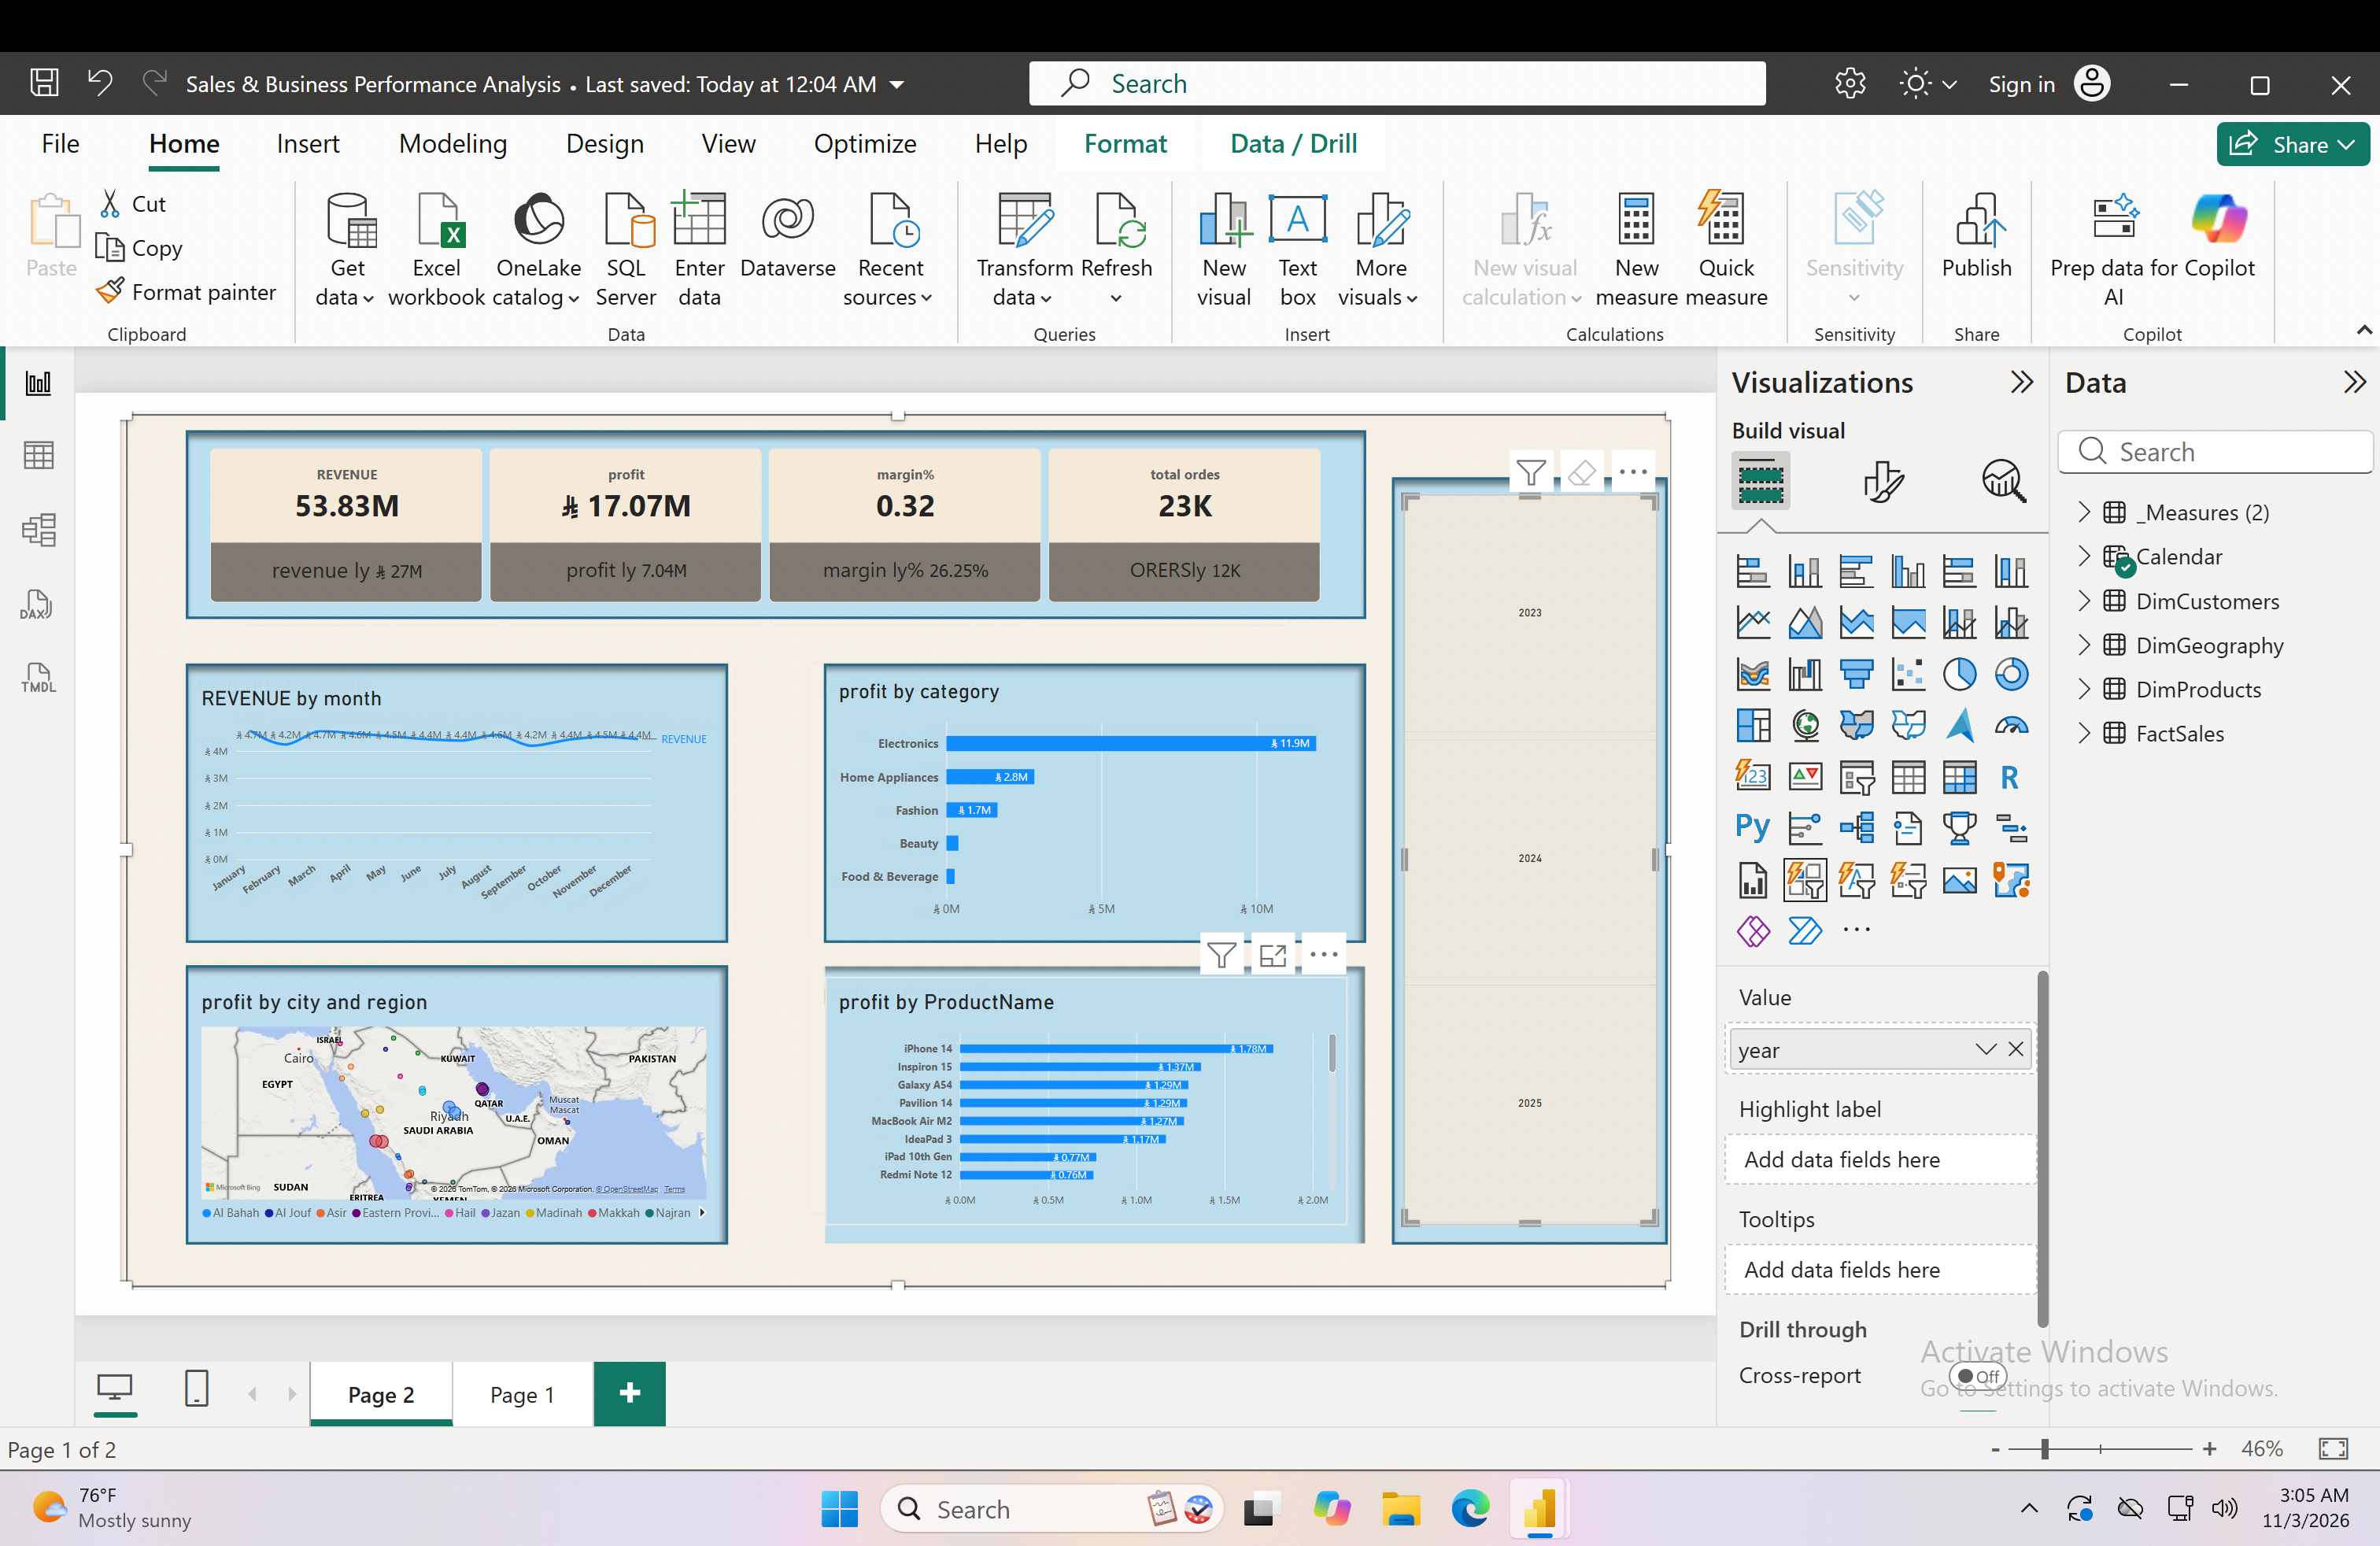

The dashboard page shown, as its layout file describes it:
{"tool":"powerbi","page":{"name":"Page 2","canvas":[1920,1080],"ordinal":0},"visuals":[{"type":"cardVisual","fields":{"Data":["_Measures (2).REVENUE","_Measures (2).profit","_Measures (2).margin%","_Measures (2).total ordes"]},"box":[157.4,64.7,1302.3,181.4],"z":0},{"type":"advancedSlicerVisual","fields":{"Values":["Calendar.year"]},"box":[1554.4,118.6,297.5,855.9],"z":1000},{"type":"clusteredBarChart","title":"profit by category","fields":{"Category":["DimProducts.Category"],"Y":["_Measures (2).profit"]},"box":[877.4,321.2,614,314],"z":2000},{"type":"lineChart","title":"REVENUE by month","fields":{"Category":["Calendar.month"],"Y":["_Measures (2).REVENUE"]},"box":[132.6,330.2,623.3,295.3],"z":3000},{"type":"map","title":"profit by city and region","fields":{"Category":["DimGeography.City"],"Series":["DimGeography.Region"],"Size":["_Measures (2).profit"]},"box":[132.6,683.7,623.3,307],"z":4000},{"type":"barChart","fields":{"Category":["DimProducts.ProductName"],"Y":["_Measures (2).profit"]},"box":[876.7,683.7,614,290.7],"z":5000}]}

Visuals, with their boxes on the page's 1920x1080 design canvas (x1, y1, x2, y2). These are canvas units, not pixel positions in the 2380x1546 screenshot, which may show the page scaled, cropped or inside an application window:
cardVisual - _Measures (2).REVENUE x _Measures (2).profit: left=157, top=65, right=1460, bottom=246
advancedSlicerVisual - Calendar.year: left=1554, top=119, right=1852, bottom=974
"profit by category" clusteredBarChart: left=877, top=321, right=1491, bottom=635
"REVENUE by month" lineChart: left=133, top=330, right=756, bottom=626
"profit by city and region" map: left=133, top=684, right=756, bottom=991
barChart - DimProducts.ProductName x _Measures (2).profit: left=877, top=684, right=1491, bottom=974
